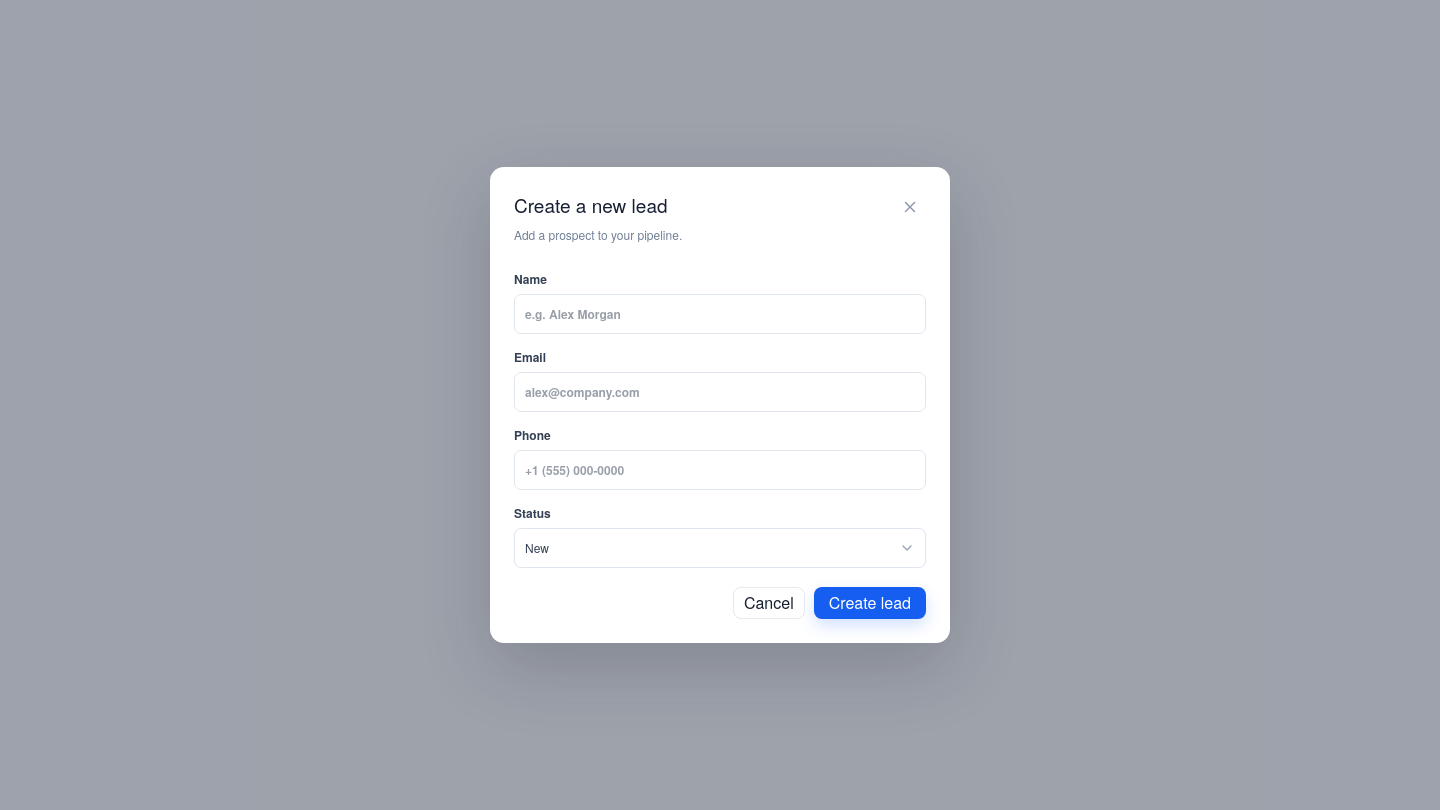
Scenario: LeadForm › rejects a phone number that contains letters
Type "555-CALL-NOW" into the field with placeholder "+1 (555) 000-0000" at {"x": 720, "y": 470}, box [514,450,926,490]
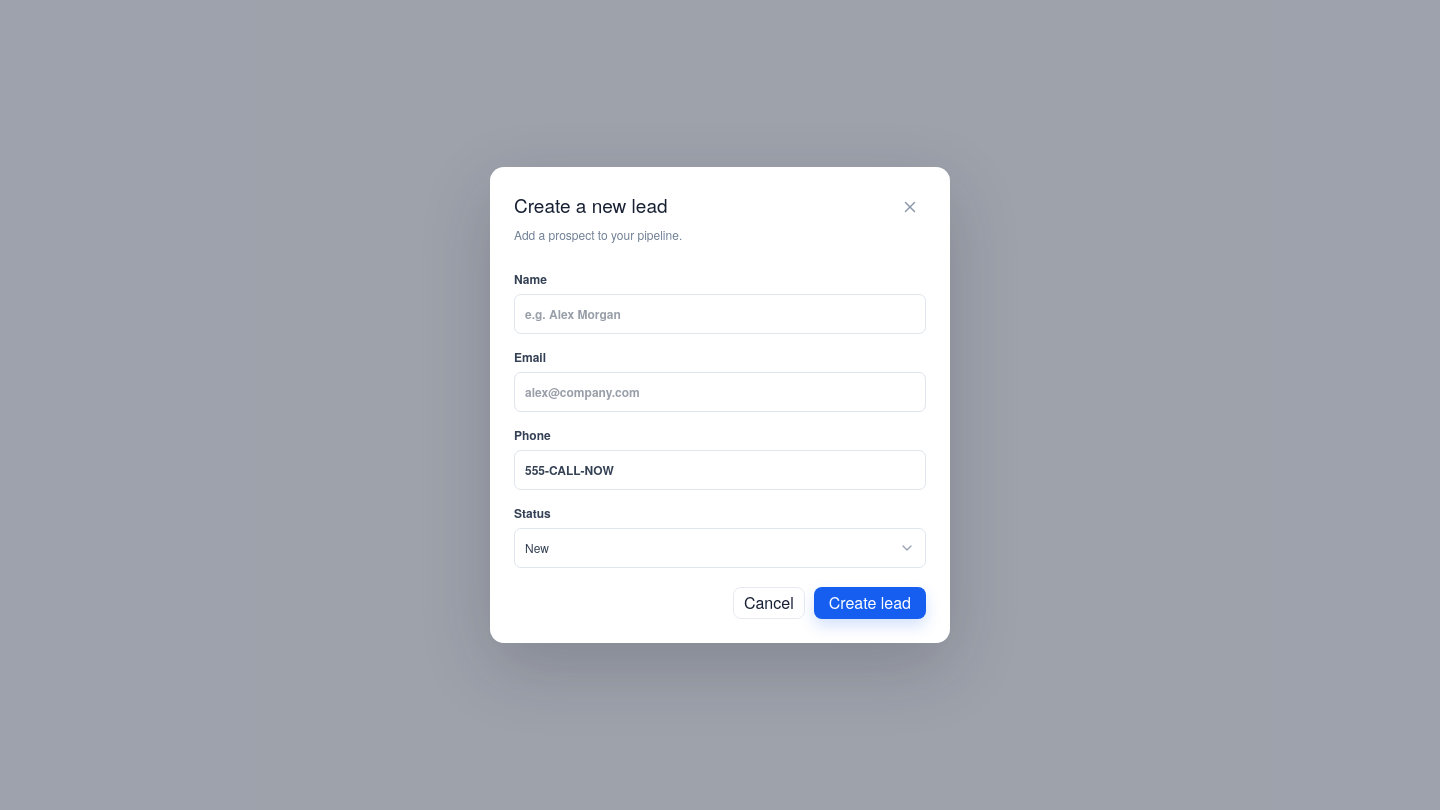
Click the button "Create lead" at {"x": 870, "y": 603}, box [814,587,926,619]
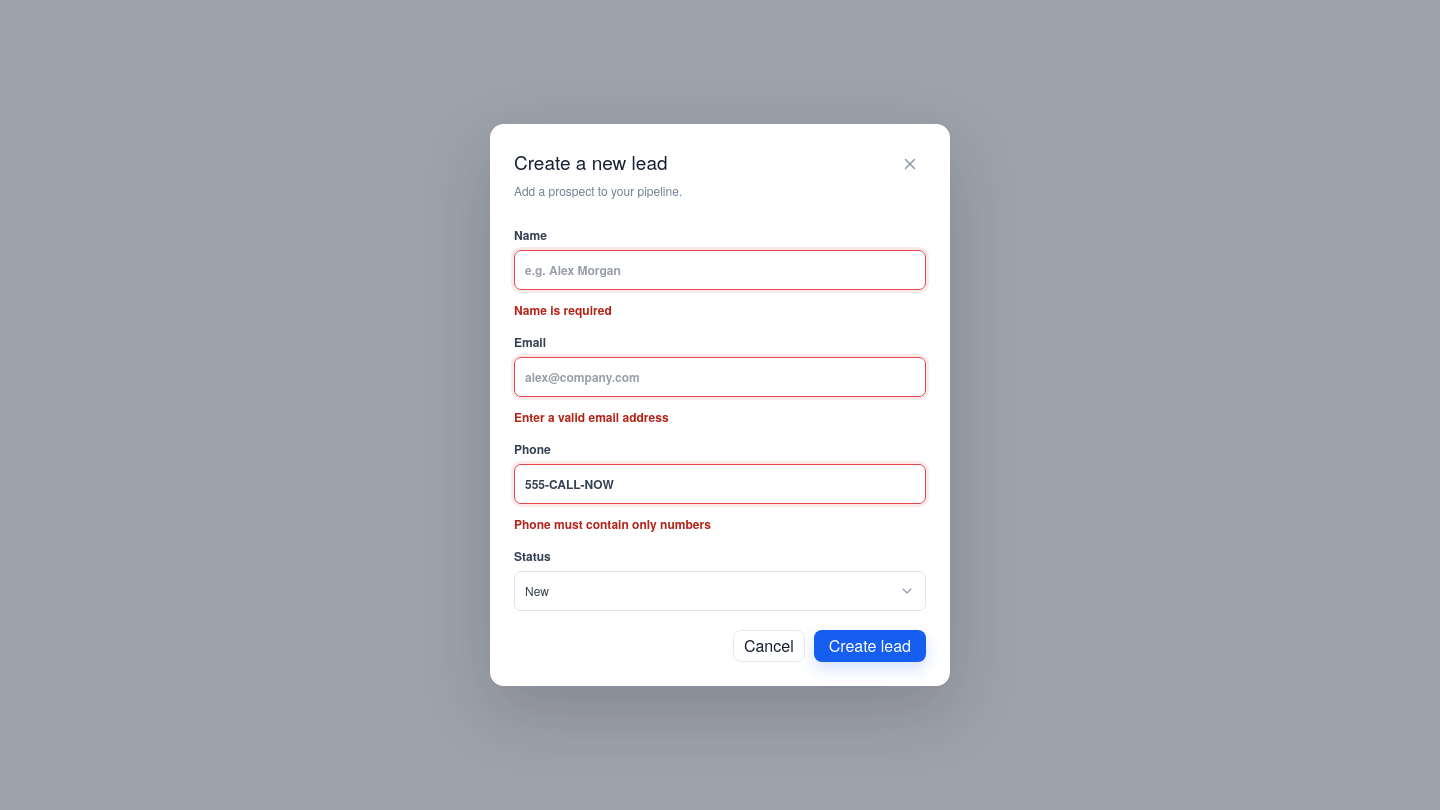
Now the text "Phone must contain only numbers" is shown, box [514,515,711,533]
